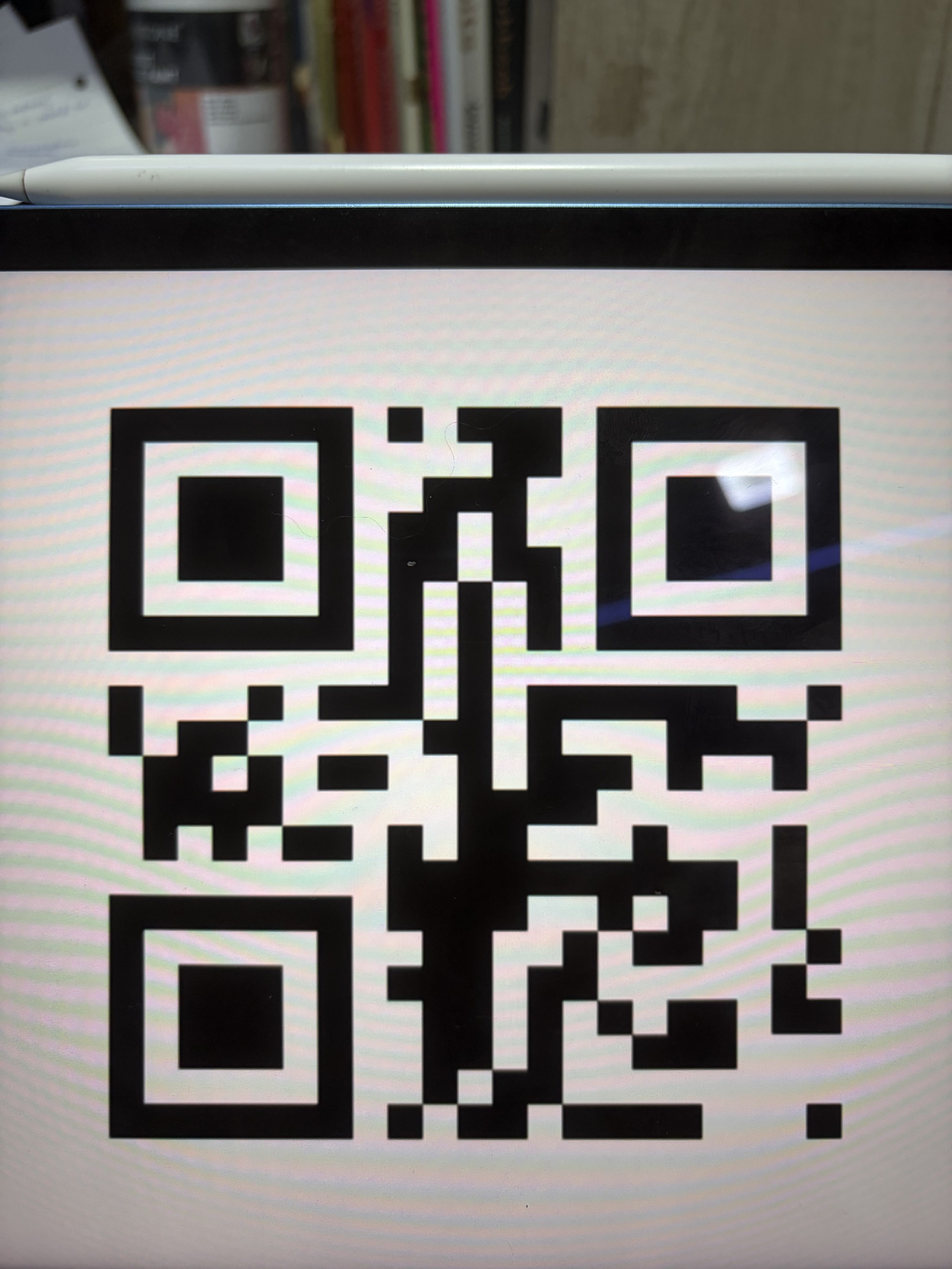QR: (84, 374, 880, 1174)
